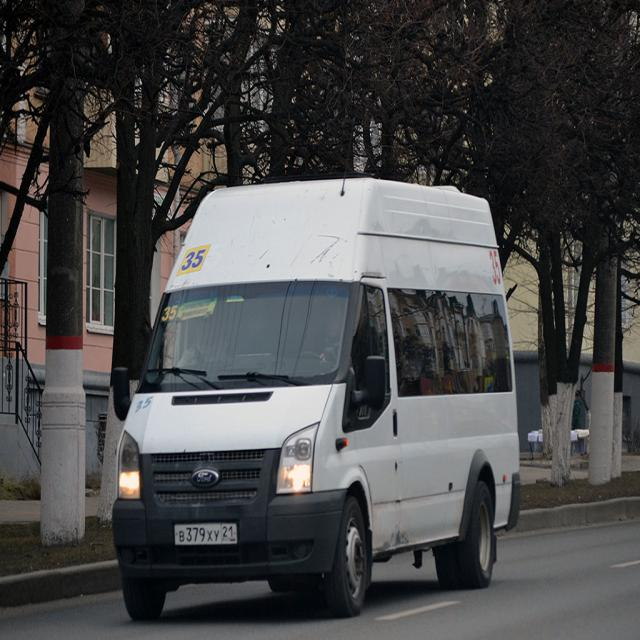number-of-bus: (182, 248, 207, 274), (162, 306, 179, 325)
